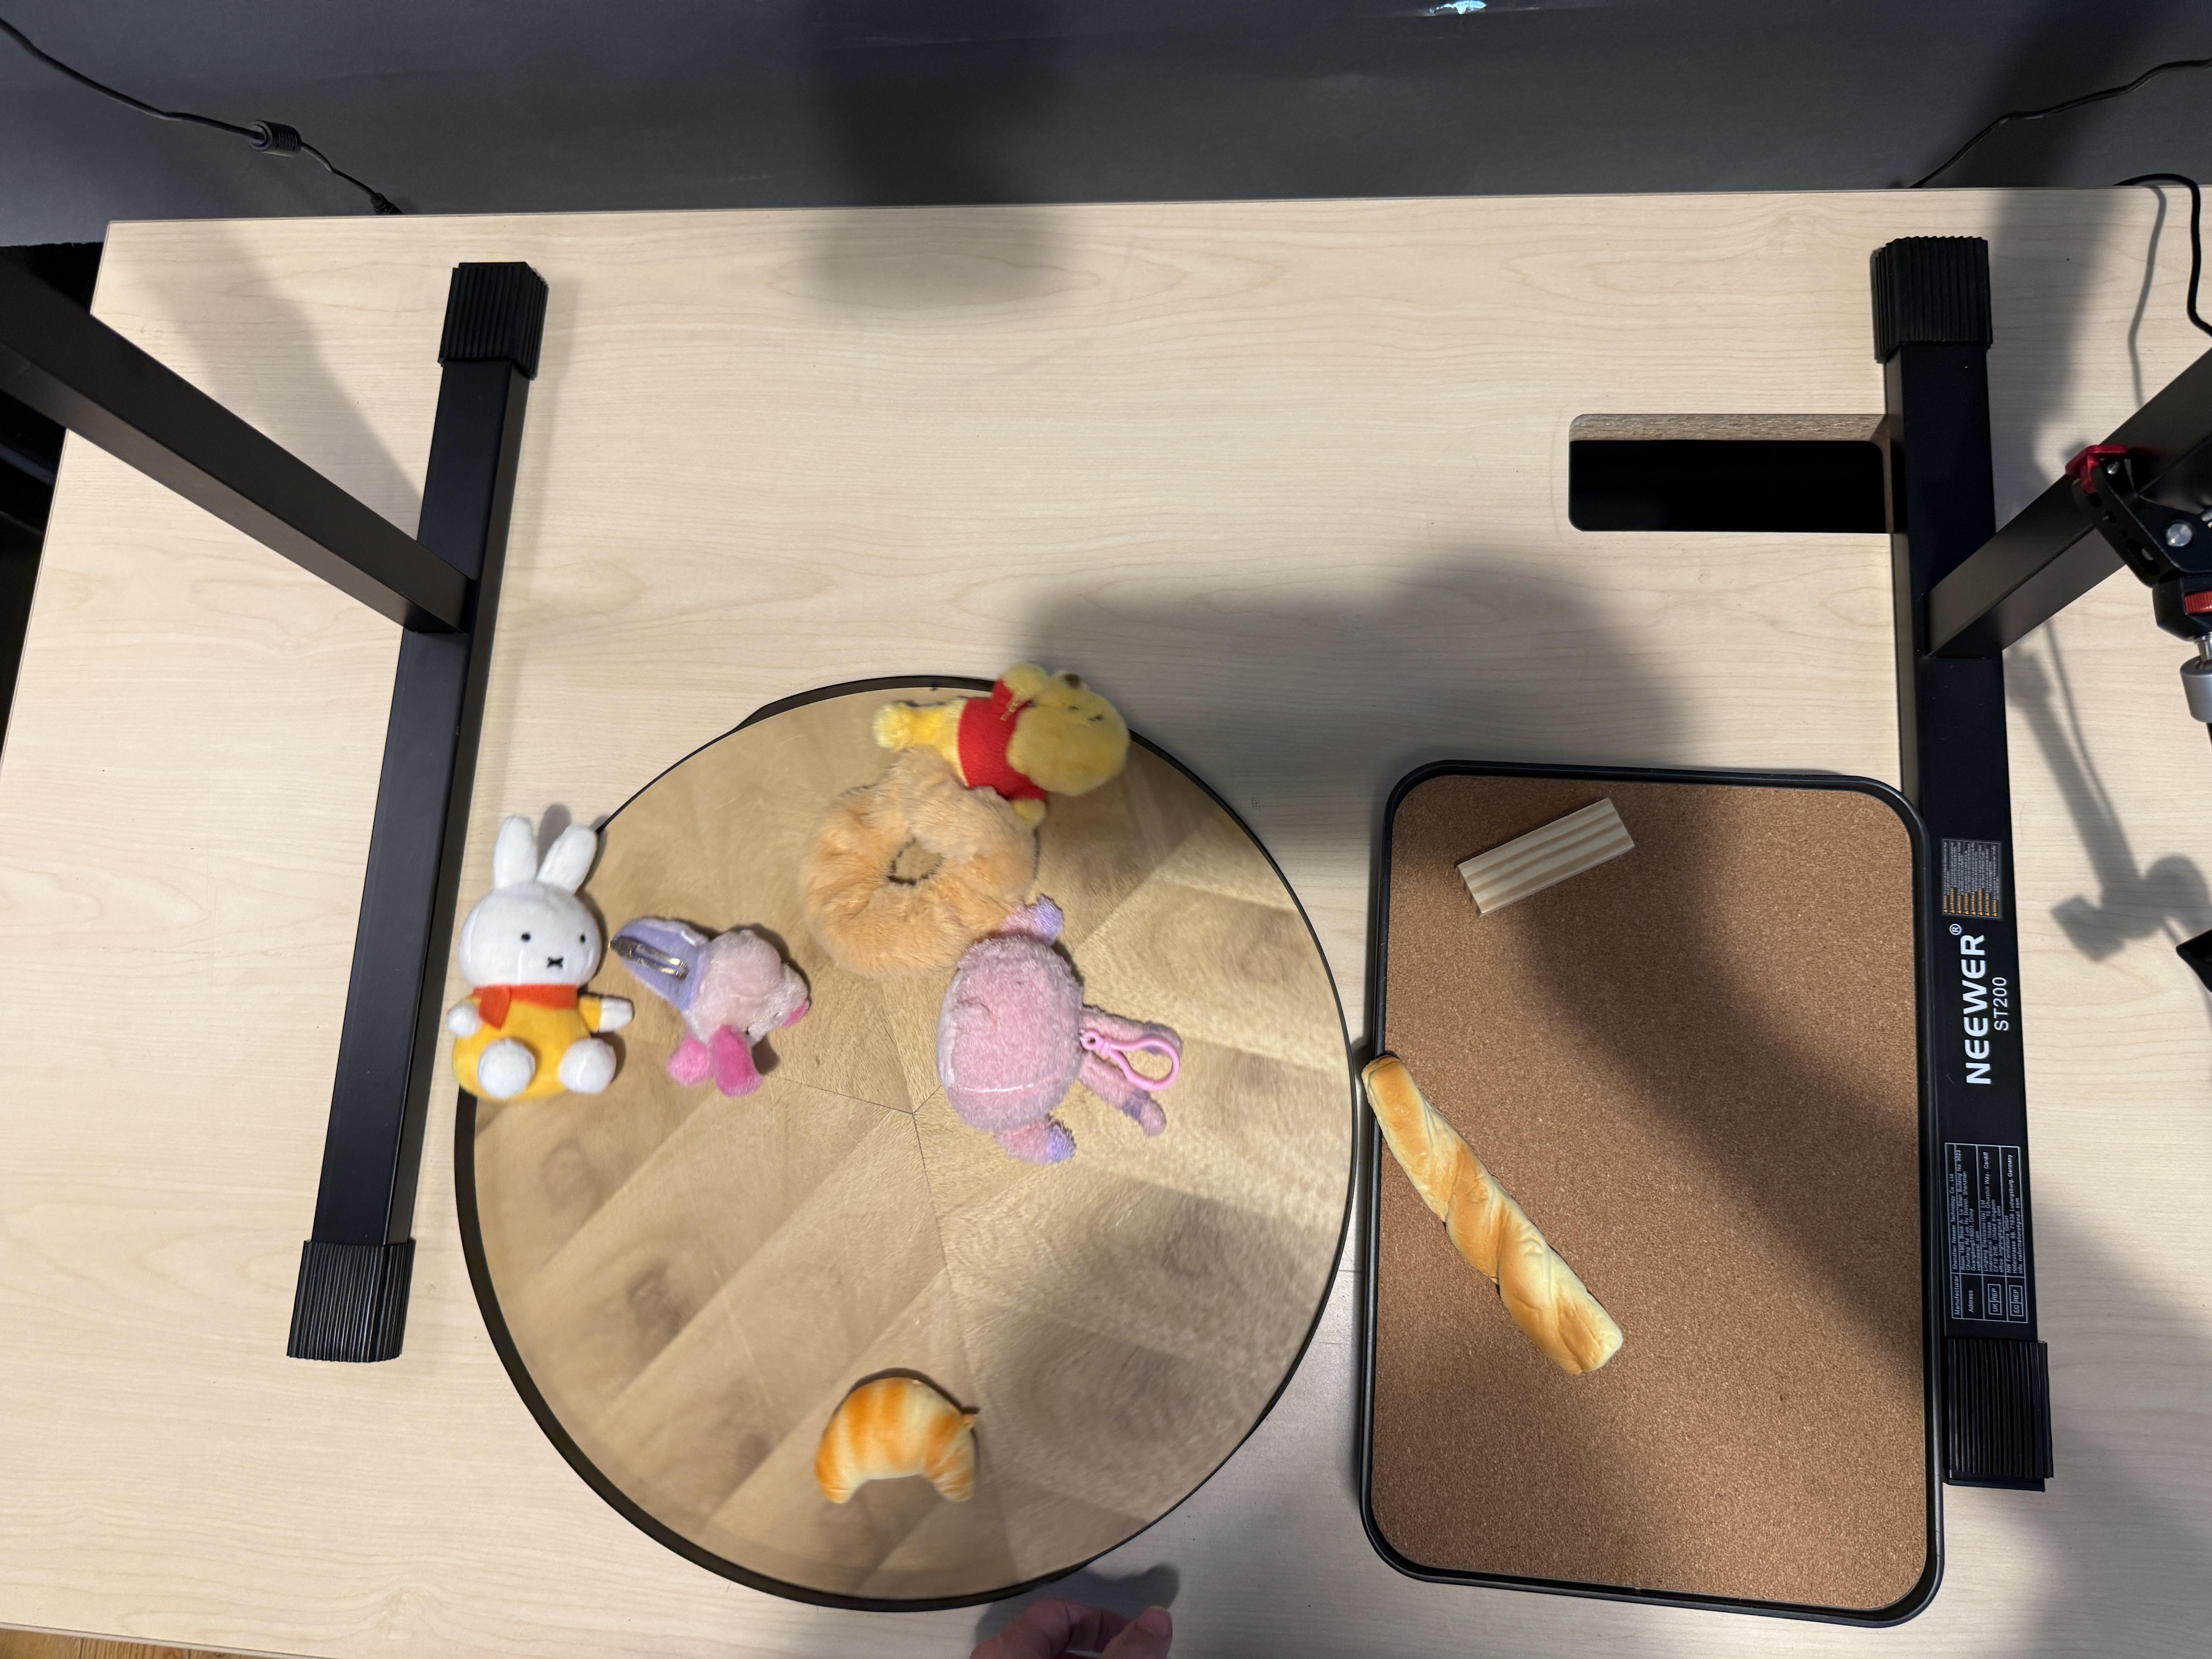block: (1456, 798, 1635, 917)
bread: (1352, 1058, 1627, 1375), (815, 1371, 984, 1513)
doll: (798, 669, 1136, 979), (939, 906, 1191, 1168), (456, 816, 636, 1103), (613, 918, 815, 1091)
